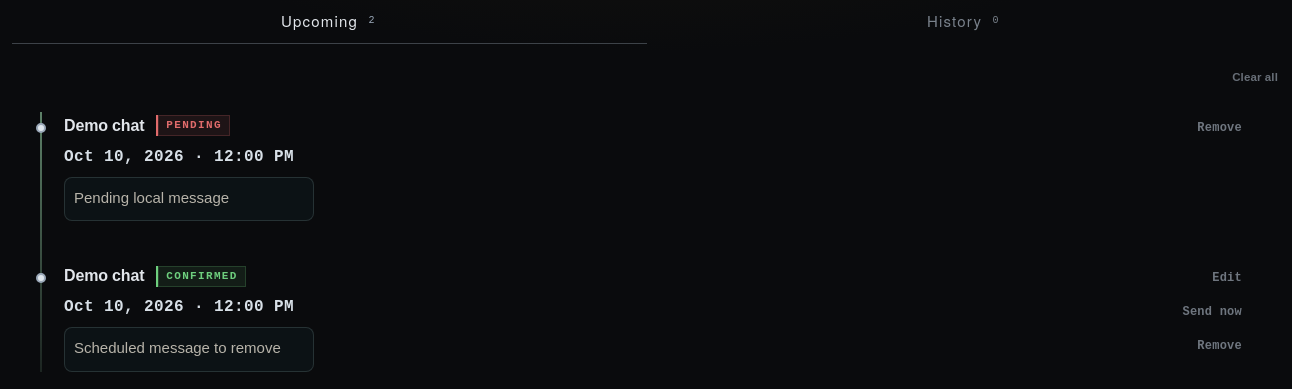
Test: clear all pending messages › removes local pending items and cancels remotely scheduled items
Click the button "Clear all": (1255,77) [1228,67,1282,87]
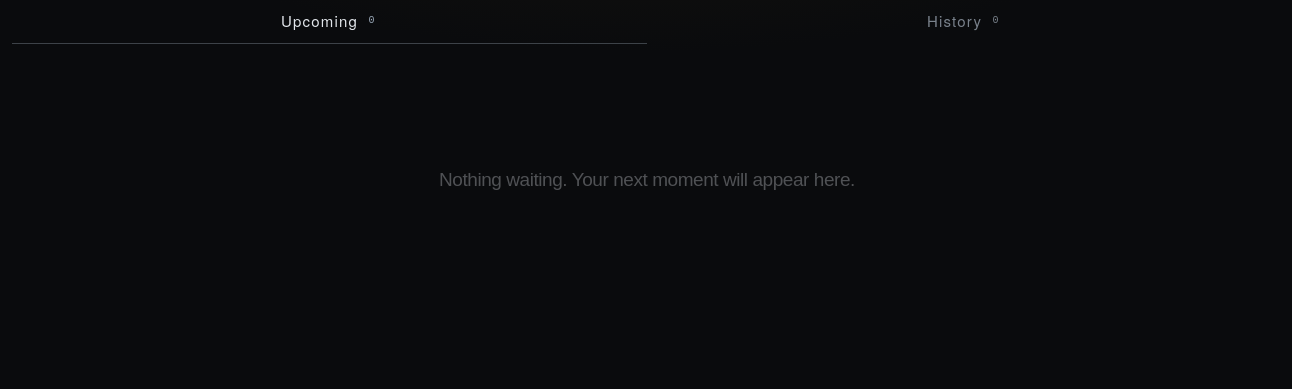
Expected: the text "Pending local message" is gone
Expected: the text "Scheduled message to remove" is gone
